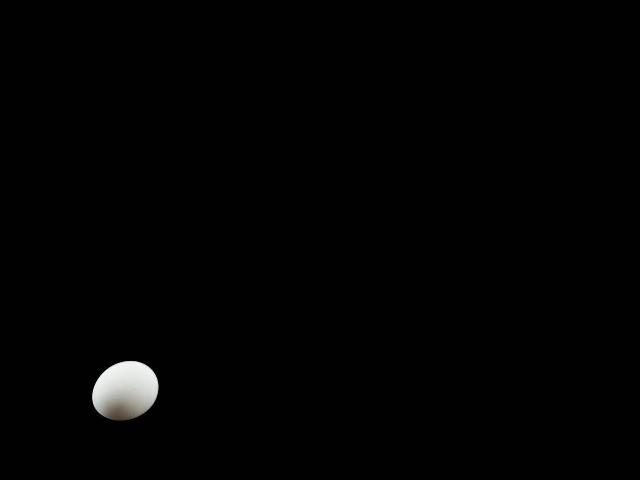egg: (91, 361, 157, 420)
